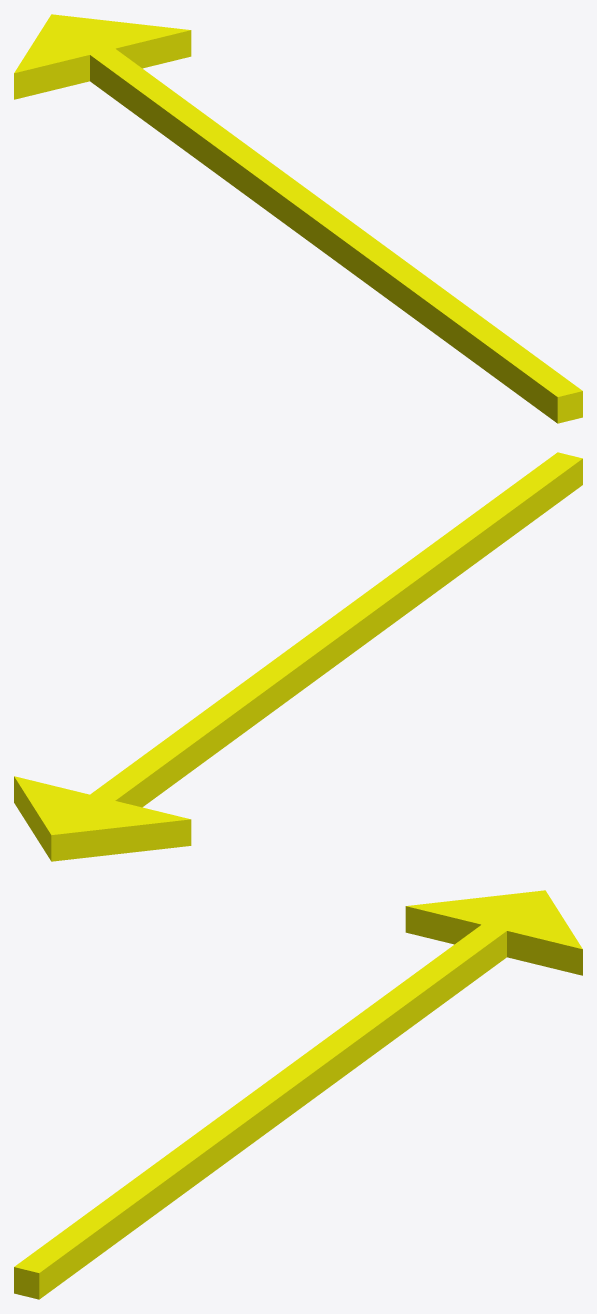
The model's file is SM_Arrow3.FBX.
The picture shows the model from 3 angles, top to bottom: view 1: azimuth 30°, elevation 25°; view 2: azimuth 150°, elevation 25°; view 3: azimuth 330°, elevation 25°; orthographic projection.
Parts seen in each view (by area): view 1: SM_Arrow3; view 2: SM_Arrow3; view 3: SM_Arrow3.
Part boxes in pixels (<box>): SM_Arrow3: <box>14,14,582,423</box>; SM_Arrow3: <box>14,452,582,861</box>; SM_Arrow3: <box>14,890,582,1299</box>.
Size of the model in its own units: 28 by 142 by 4.
